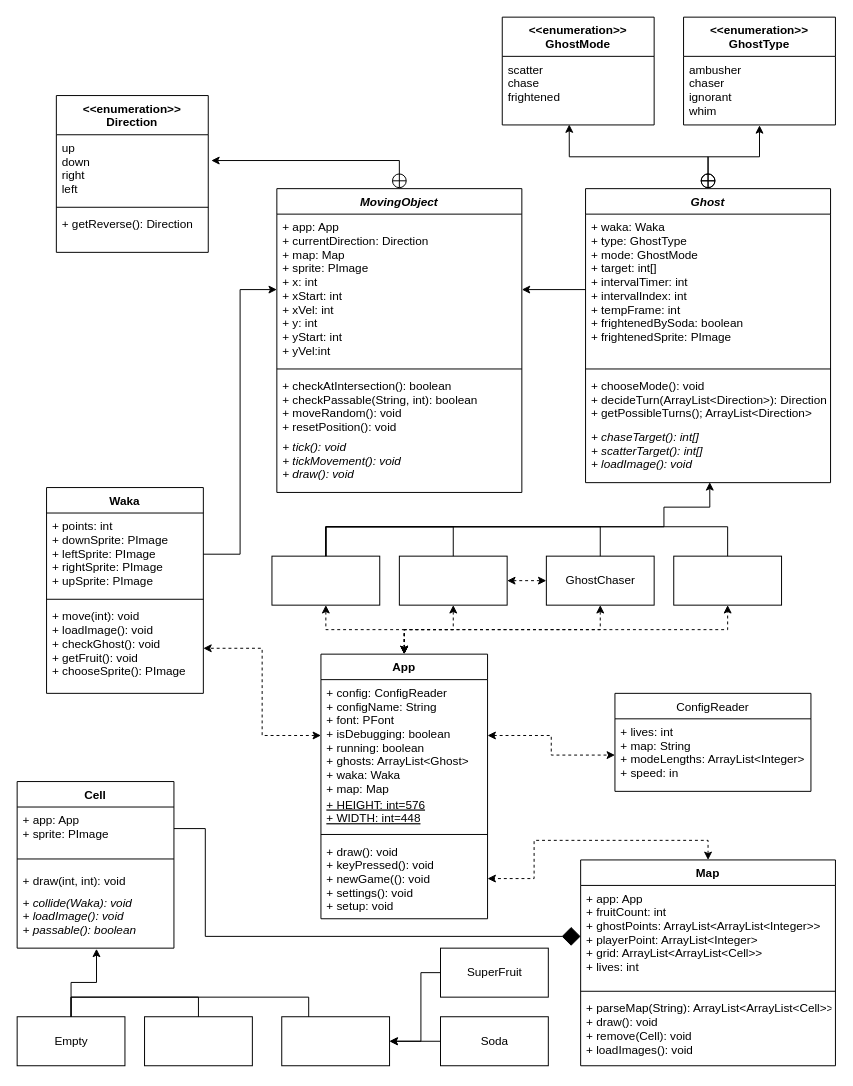
Image size: 853x1086. Some labels were removed from this diagram. Each missing label, with the centre of its shape:
Fruit: point (335, 1041)
GhostAmbusher: point (727, 580)
GhostIgnorant: point (325, 580)
GhostWhim: point (452, 580)
Wall: point (198, 1041)
